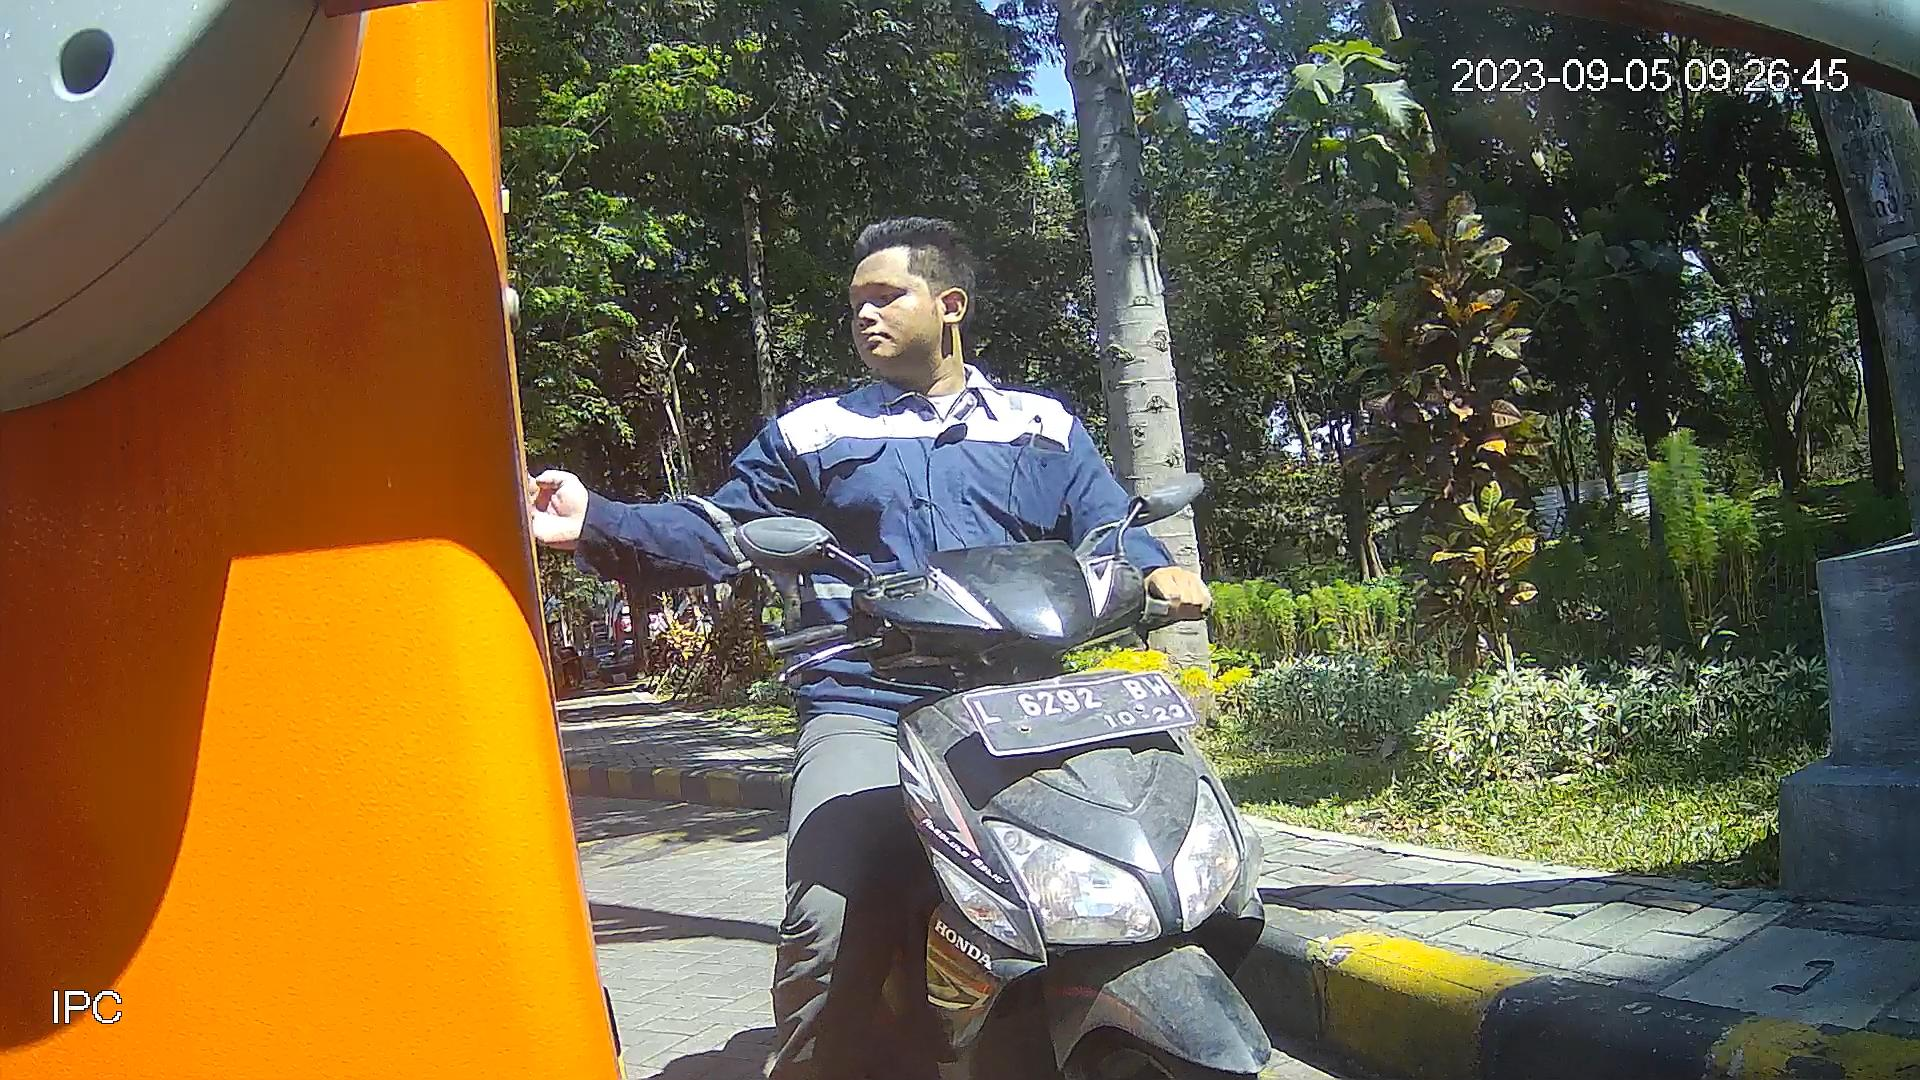plat: (960, 669, 1203, 758)
